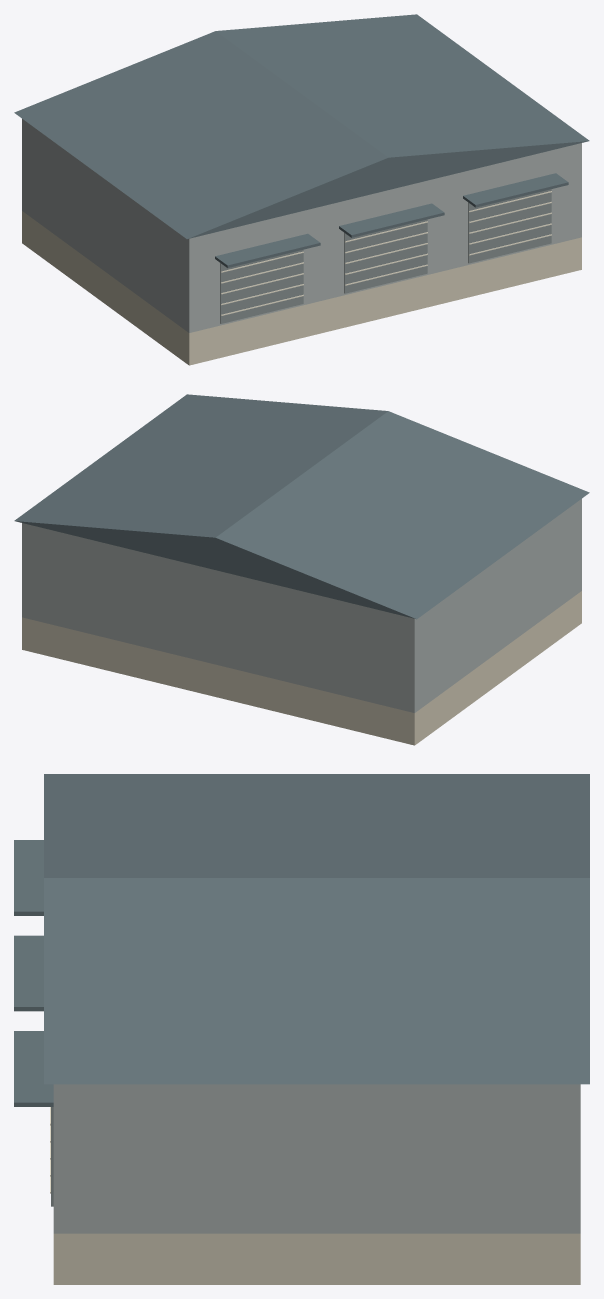
Rendered from dock-shed-0.glb.
3 views of the same model, one above another, from view 1: azimuth 30°, elevation 25°; view 2: azimuth 150°, elevation 25°; view 3: azimuth 270°, elevation 25° (orthographic). The views are drawn at different scales.
Bounding box in the file's own units: 39 × 15 × 30.6.
